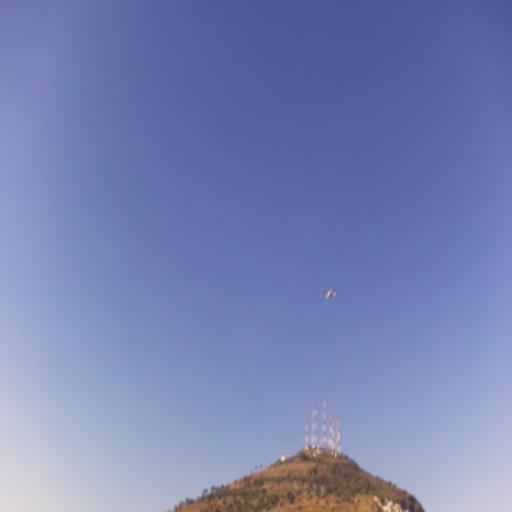drones: (324, 284, 338, 303)
